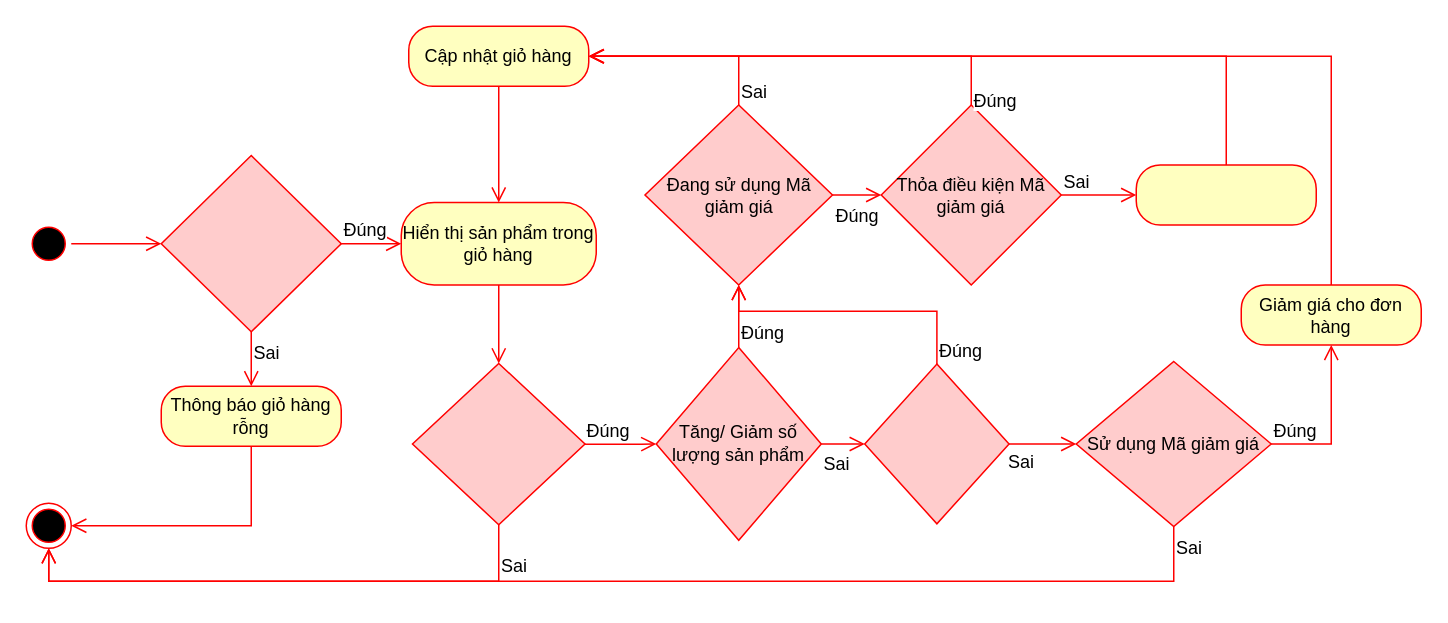
Some shapes in this 1448 by 623 pixel diagram are drawn without their labels. The centre of each missing label's shape, as x and y in pixels:
"Bỏ chọn sản phẩm" belongs at point (936, 443).
"Hủy Mã giảm giá" belongs at point (1225, 194).
"Thao tác với giỏ hàng" belongs at point (498, 443).
"Đã có sản phẩm trong giỏ hàng" belongs at point (250, 243).
